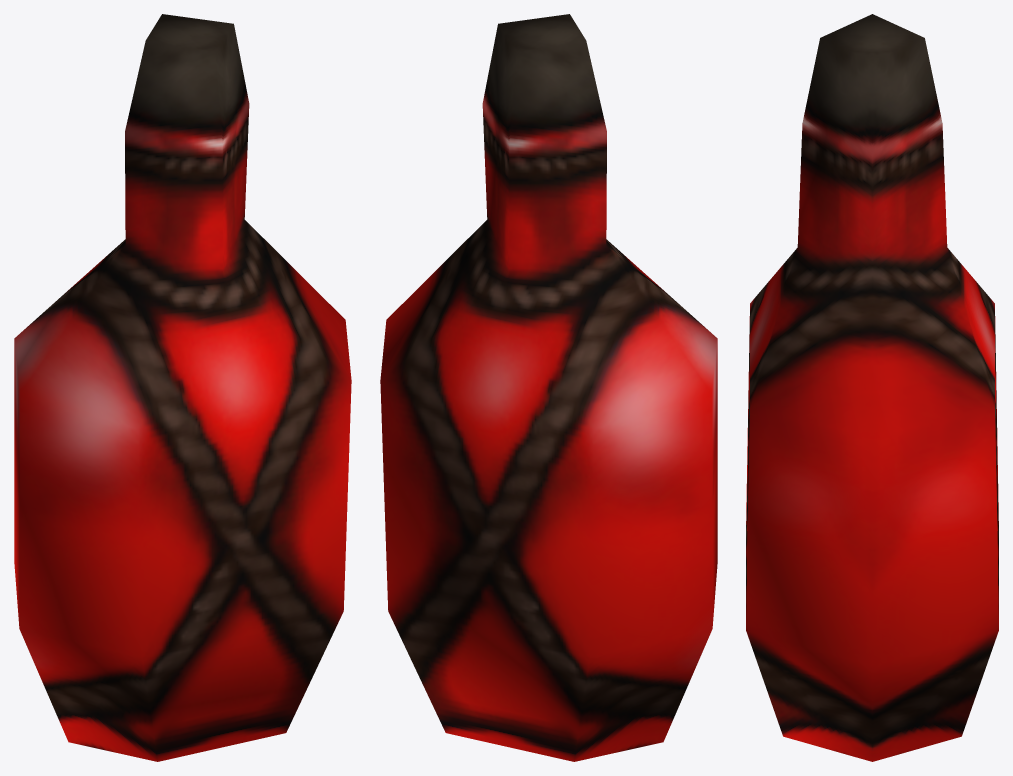
The model's file is AttackPotion.obj.
3 renders of one model, left to right at view 1: azimuth 30°, elevation 25°; view 2: azimuth 150°, elevation 25°; view 3: azimuth 270°, elevation 25°, orthographic.
Visible parts, largest first — view 1: default; view 2: default; view 3: default.
Boxes of the visible parts, bbox=[...] form: default: bbox=[14, 14, 351, 761]; default: bbox=[380, 14, 717, 761]; default: bbox=[746, 14, 998, 761].
Size of the model in its own units: 0.8819 by 1.77 by 0.5978.
